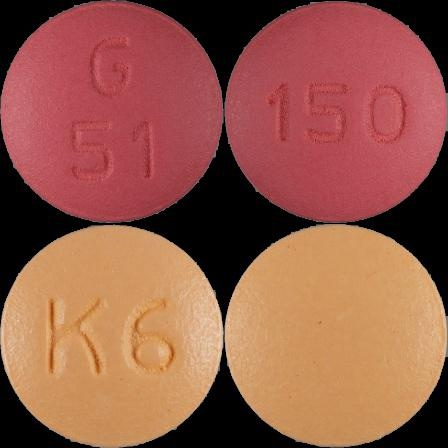63187-091: (0, 0, 224, 224)
